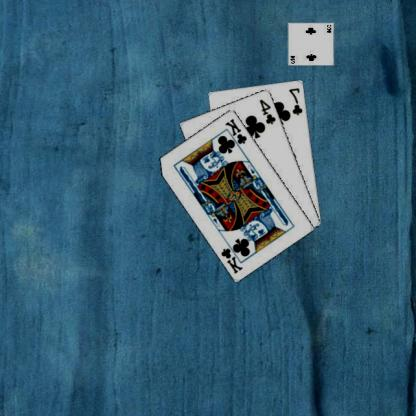4C: (258, 97, 278, 125)
7C: (288, 85, 306, 116)
KC: (220, 239, 246, 275), (224, 115, 250, 150)
